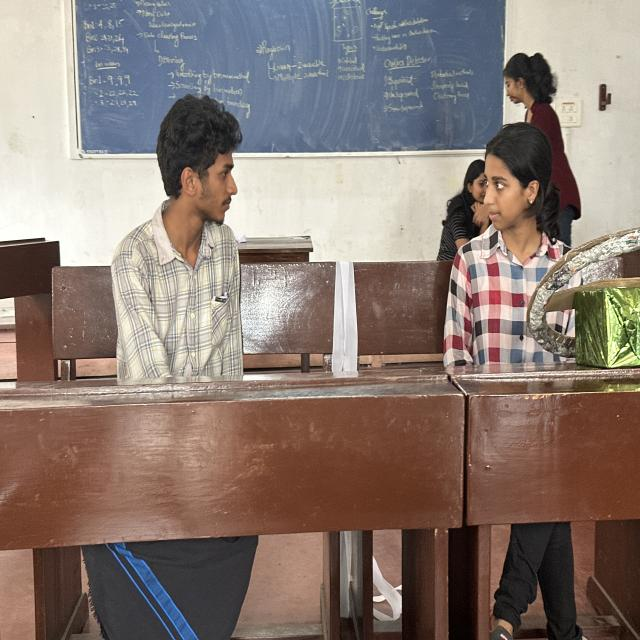Helmet: (93, 204, 274, 428), (421, 191, 606, 405)
